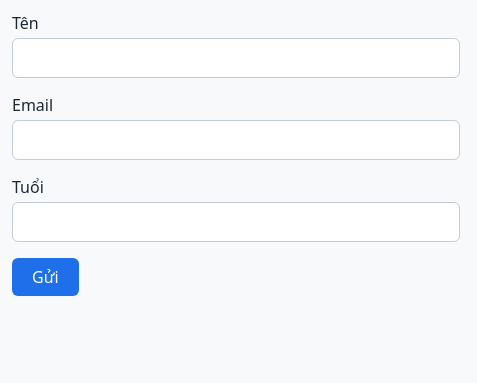
Test: SimpleForm › hides errors until the first submit, then shows every invalid field
Expected: the text "Vui lòng nhập tên" is not shown
Click the button "Gửi": [45, 277] box 12,258 -> 79,296
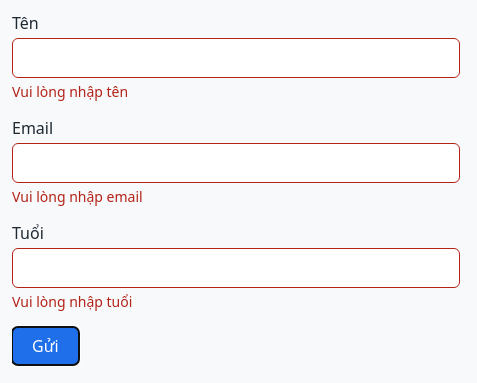
Expected: the text "Vui lòng nhập tên" is shown, 12,82 -> 128,101
Expected: the text "Vui lòng nhập email" is shown, 12,187 -> 143,206
Expected: the text "Vui lòng nhập tuổi" is shown, 12,292 -> 132,311
